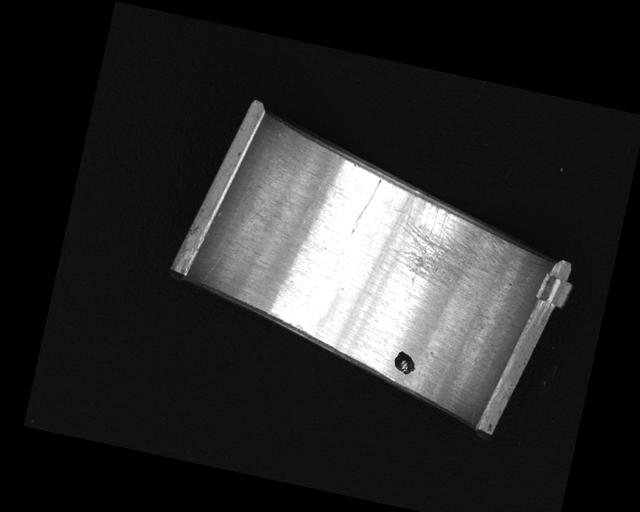blot: (391, 349, 418, 376)
nick: (201, 196, 264, 295), (348, 175, 381, 240)
scratch: (389, 191, 514, 301)
